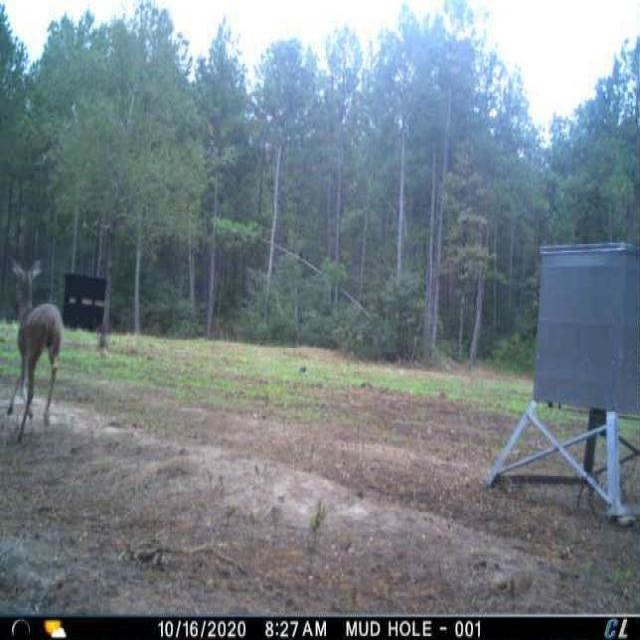deer: (3, 257, 70, 447)
